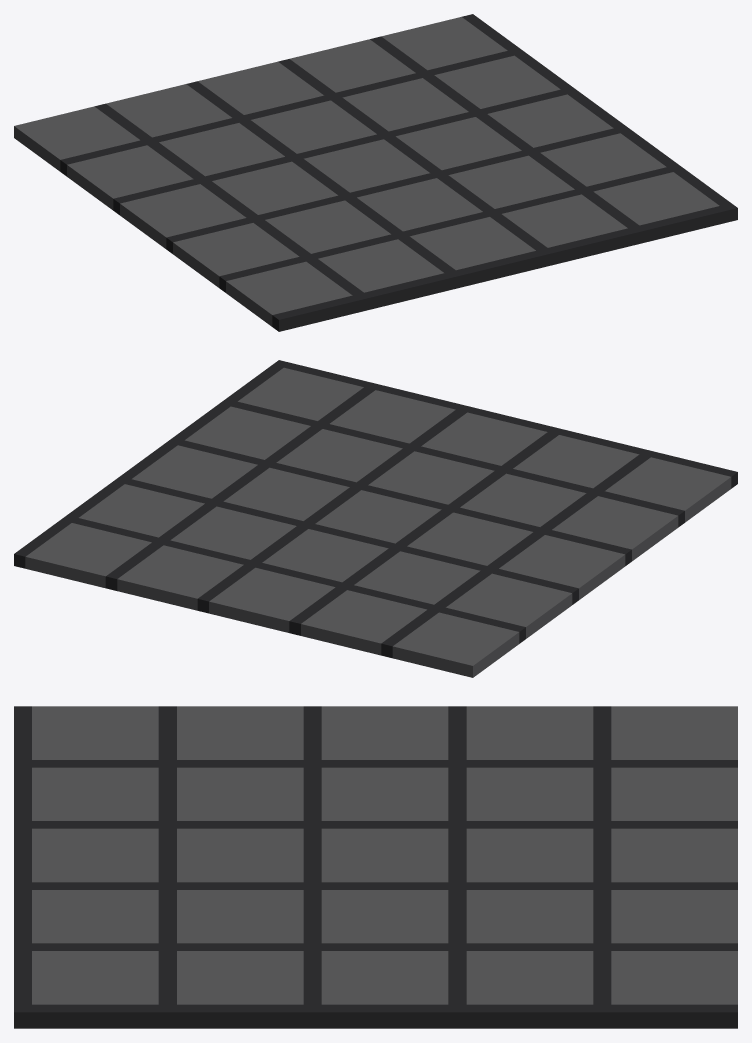
Rendered from Architeture1-3.obj.
The picture shows the model from 3 angles, top to bottom: view 1: azimuth 30°, elevation 25°; view 2: azimuth 150°, elevation 25°; view 3: azimuth 270°, elevation 25°; orthographic projection. The views are drawn at different scales.
Size of the model in its own units: 4 by 0.1 by 4.
1 material, 1 textured.
